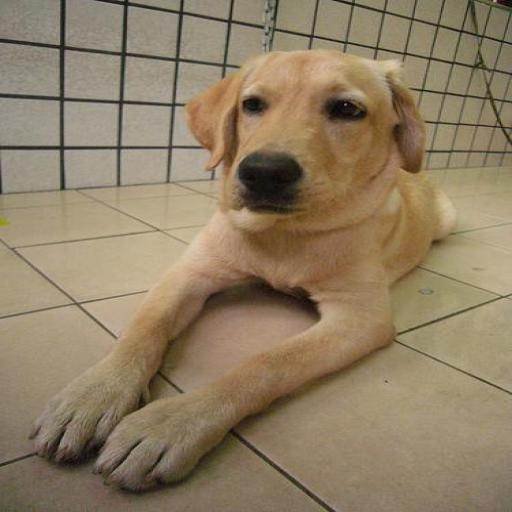dog_face: (181, 46, 433, 214)
